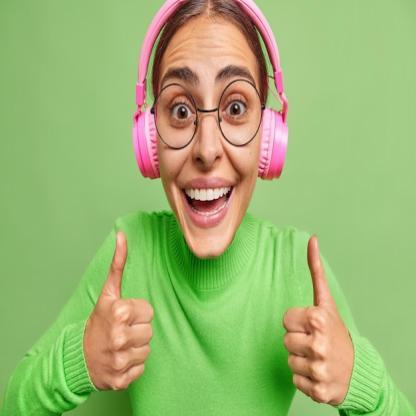thumb_up: (81, 225, 155, 395), (282, 231, 350, 400)
